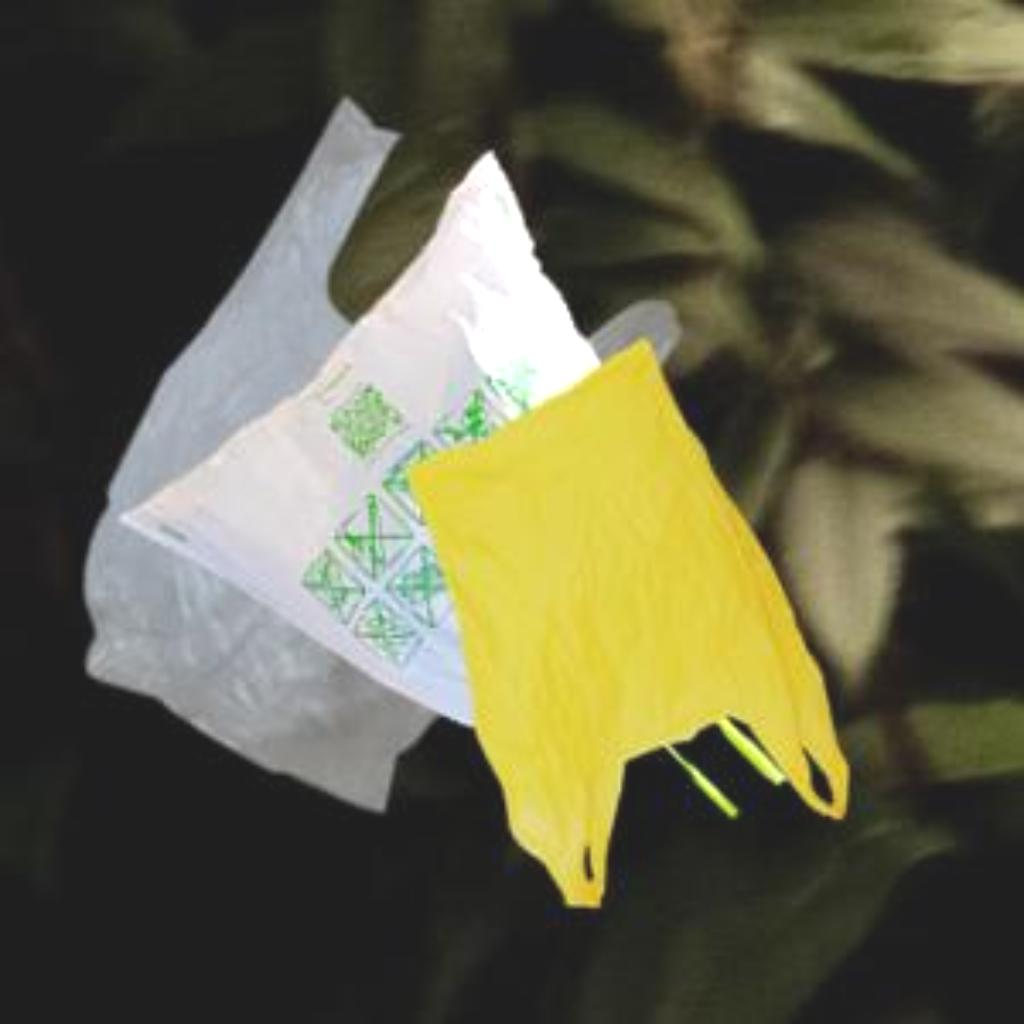garbage: (80, 79, 510, 799), (403, 343, 867, 889), (244, 159, 616, 684)
